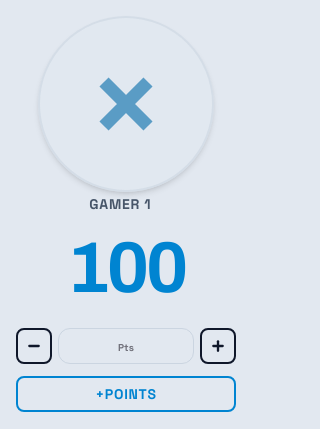
Individual player scorecard mutations › handles negative scoring subtraction correctly
Type "-15" into the number field with placeholder "Pts" at (126,346), box [58,328,194,364]
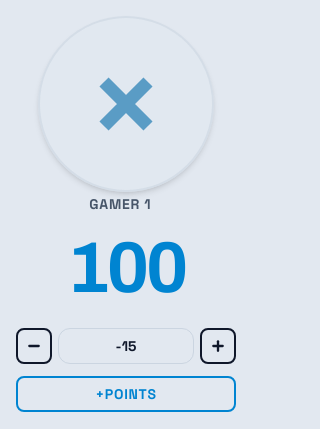
Click the button "+Points" at (126,394), box [16,376,236,412]
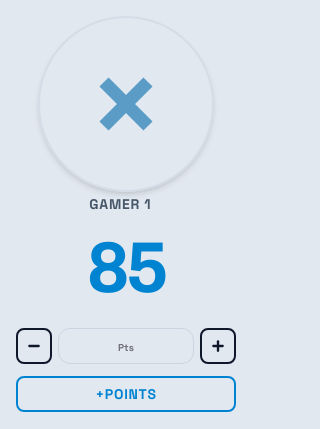
Expected: the text "85" is shown, [87,232,165,304]
